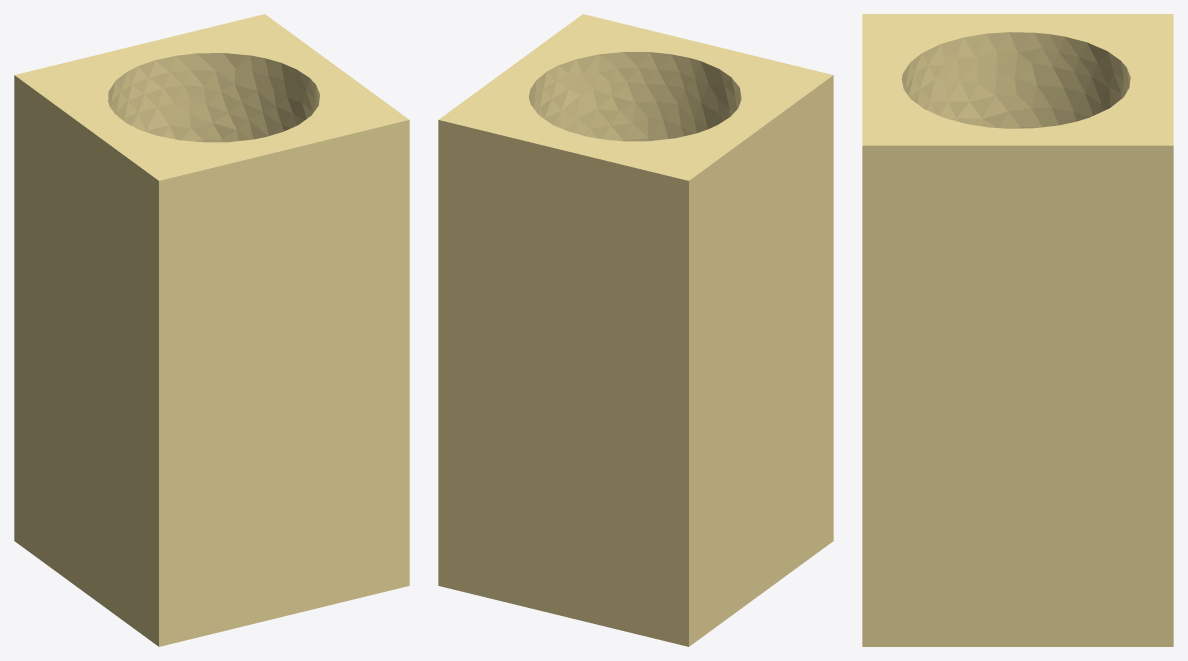
Rendered from input.gltf.
3 views of the same model, side by side, from view 1: azimuth 30°, elevation 25°; view 2: azimuth 150°, elevation 25°; view 3: azimuth 270°, elevation 25° (orthographic). The views are drawn at different scales.
Visible parts, largest first — view 1: Renderer Node; view 2: Renderer Node; view 3: Renderer Node.
Part boxes in pixels (x1,y1,x2,y2): Renderer Node: (14,14,409,646); Renderer Node: (438,14,833,646); Renderer Node: (862,14,1173,646).
Size of the model in its own units: 0.4219 by 0.75 by 0.4219.
